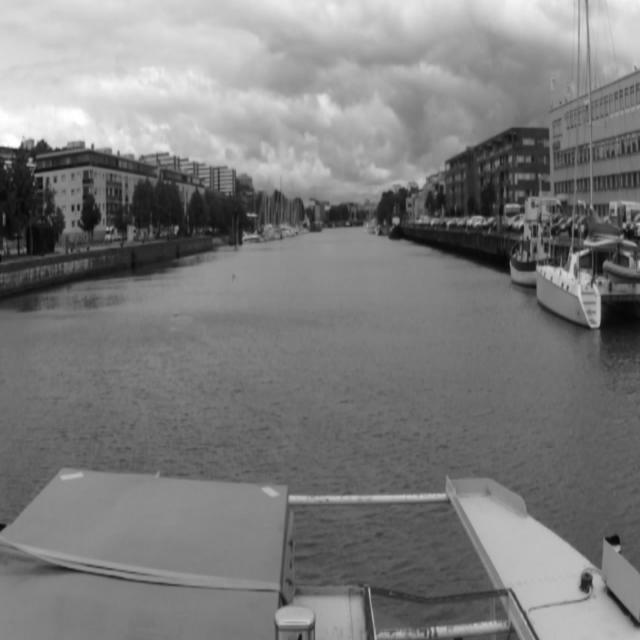ship: (536, 0, 640, 330), (507, 210, 558, 285), (388, 206, 402, 240)
